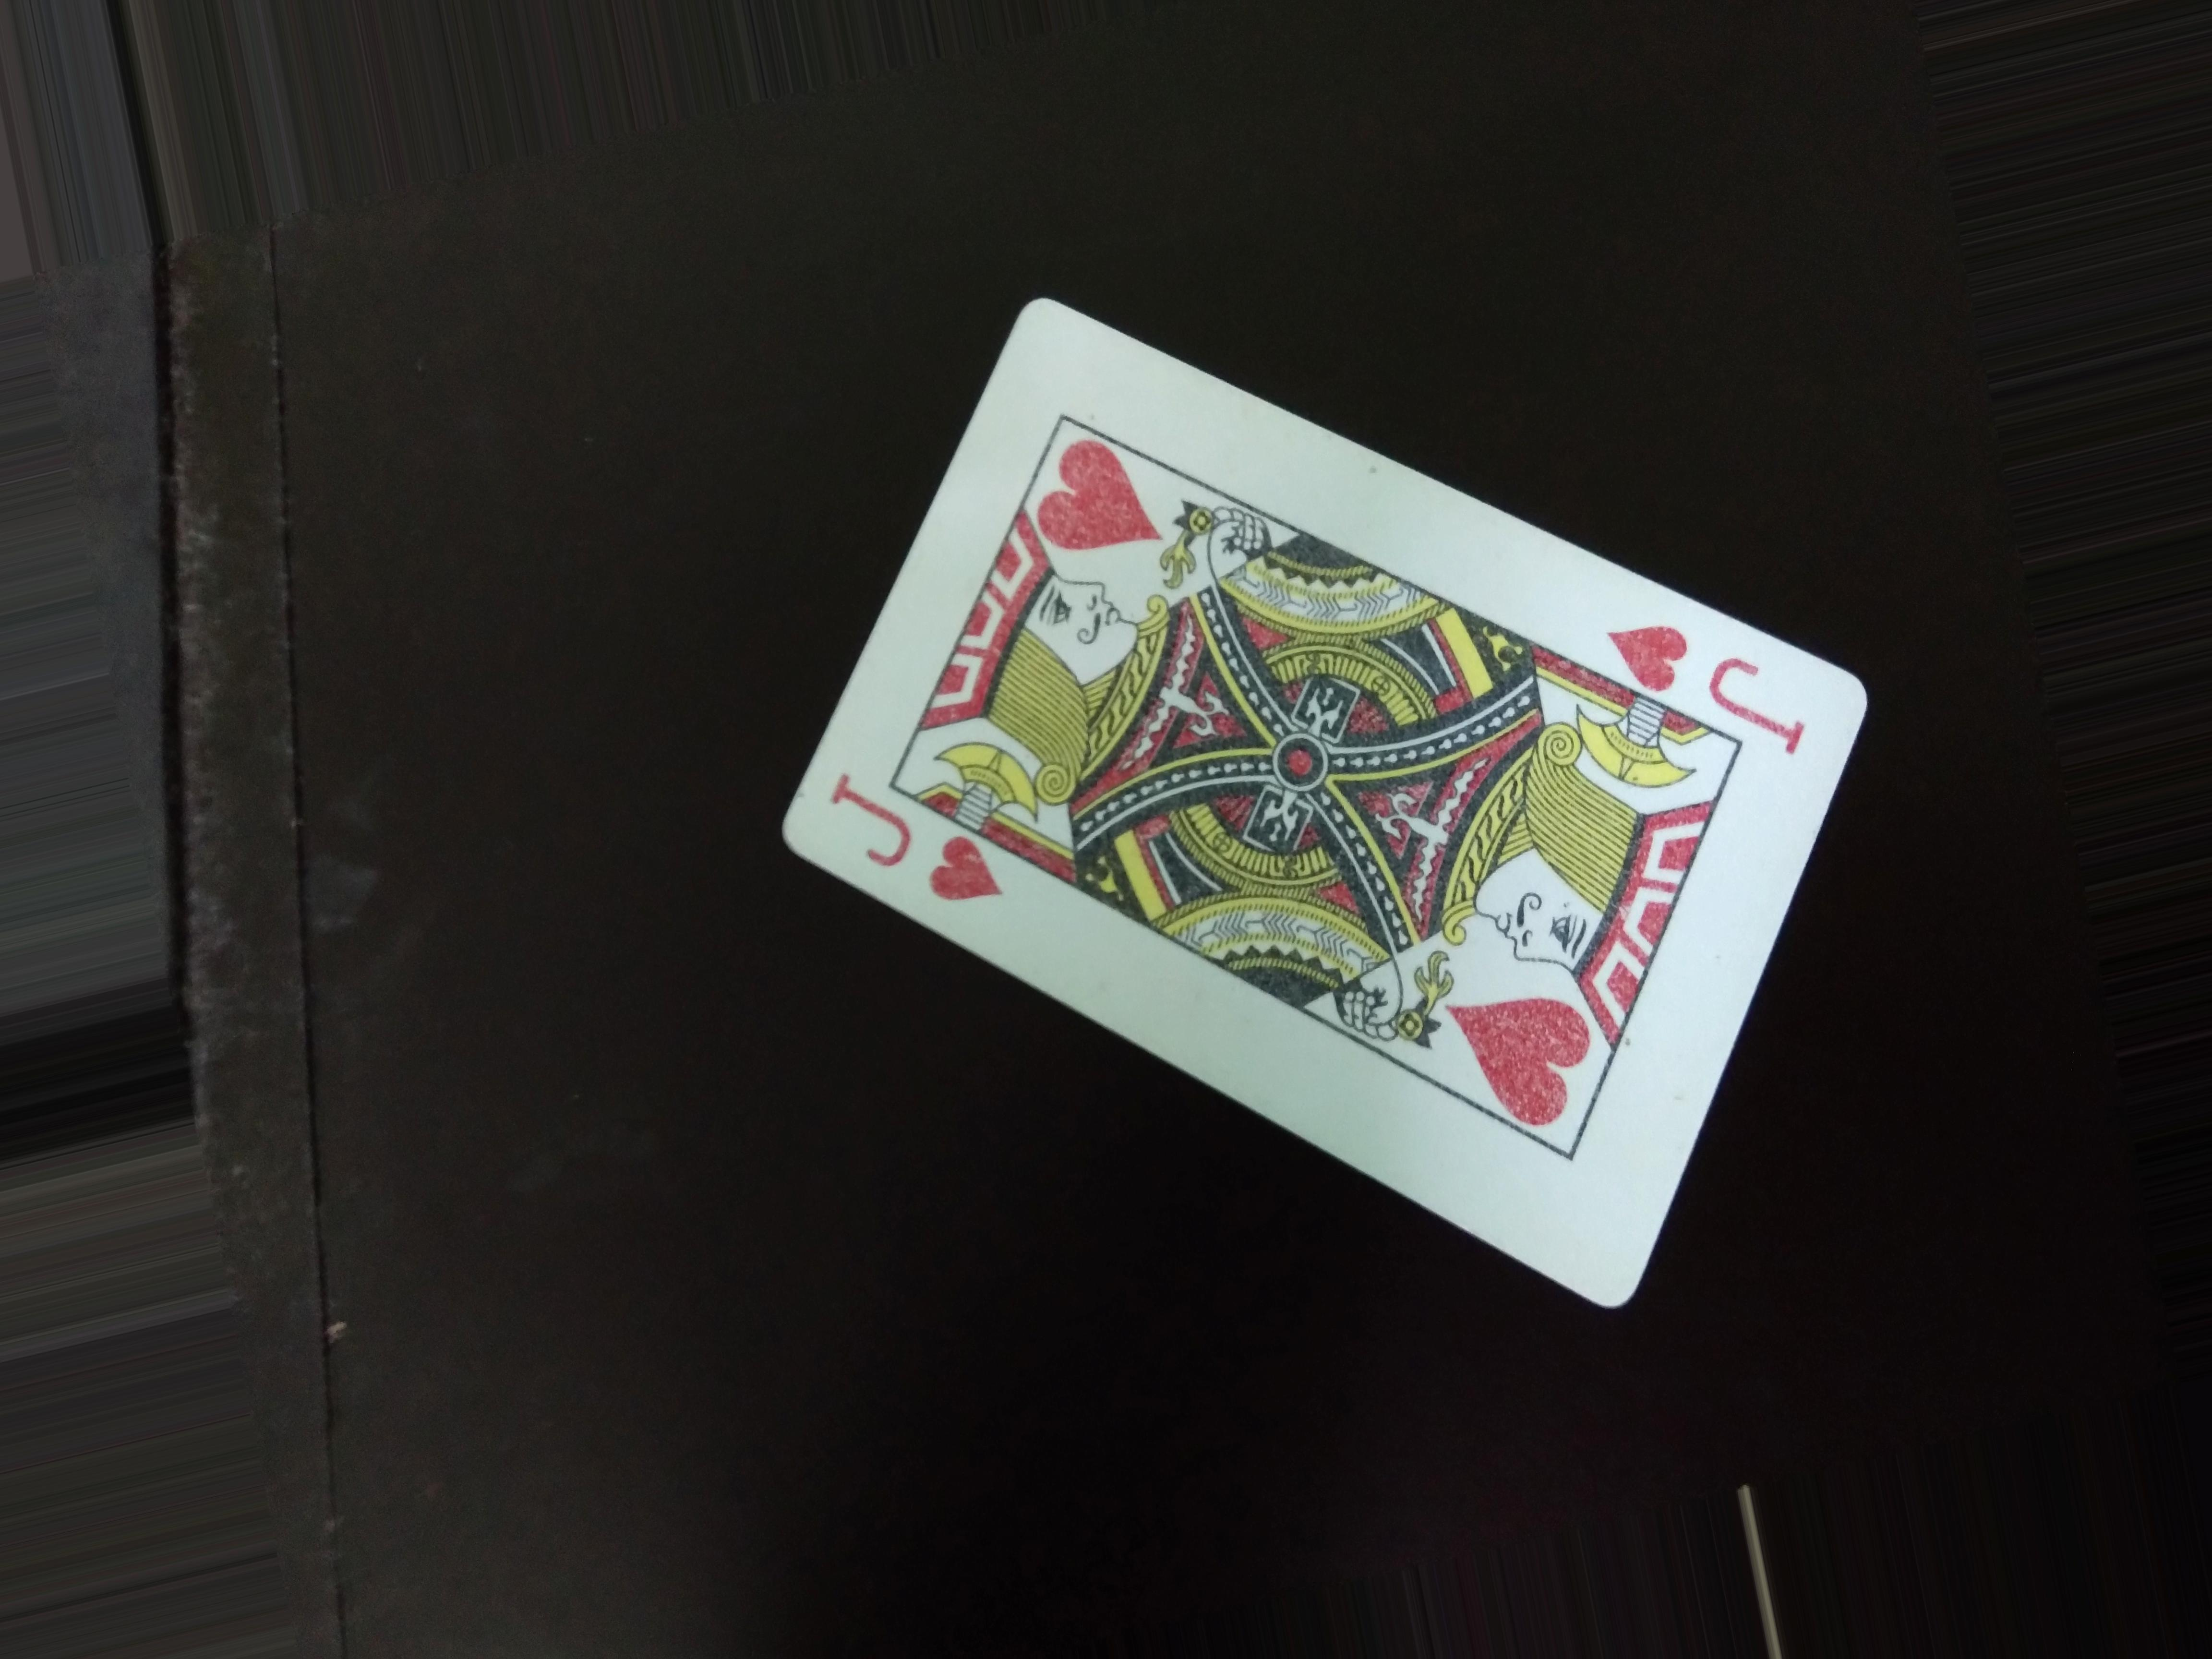JH: (827, 772, 1007, 925)
